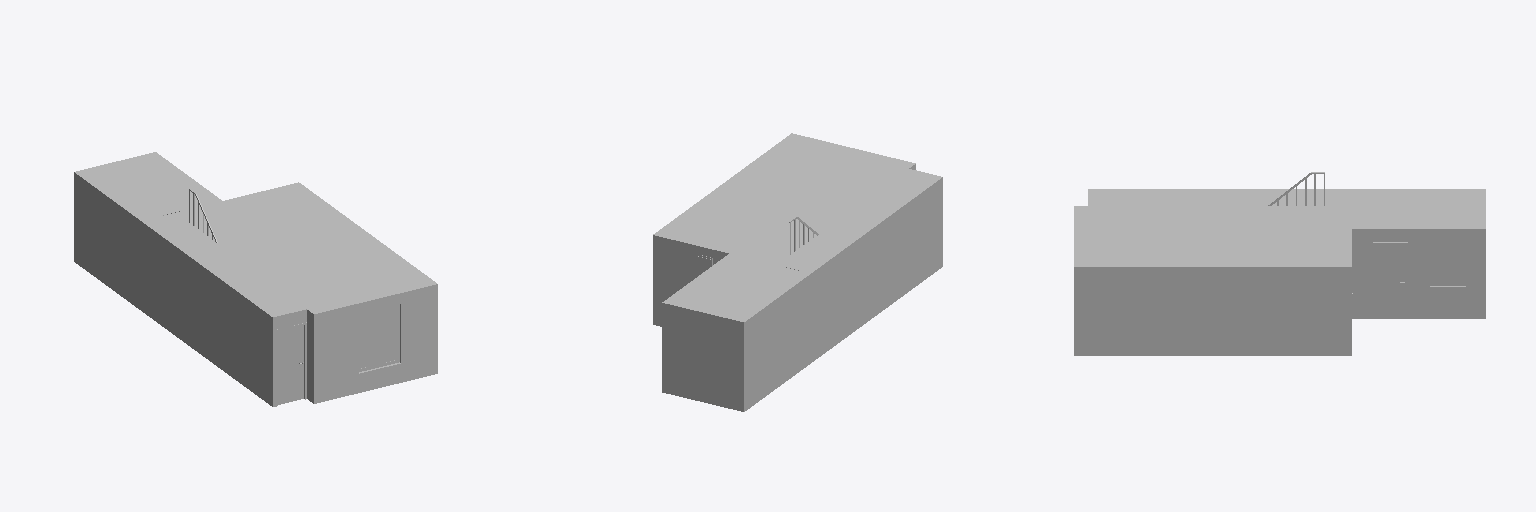
File: Groundfloor.obj
3 renders of one model, left to right at view 1: azimuth 30°, elevation 25°; view 2: azimuth 150°, elevation 25°; view 3: azimuth 270°, elevation 25°, orthographic.
Parts seen in each view (by area): view 1: wall_17_86, wall_9_47, room_5_211, room_4_209, wall_18_92, room_1_203, room_2_205, Porte_101, room_3_207, sweethome3d_window_pane_169, sweethome3d_window_pane_1_176, wall_16_80 (+2 smaller); view 2: wall_17_86, room_5_211, wall_1_2, room_4_209, wall_18_92, room_1_203, room_2_205, wall_3_14, room_3_207; view 3: wall_4_20, wall_10_53, room_5_211, wall_2_8, room_4_209, room_1_203, room_2_205, Porte_123, room_3_207, sweethome3d_window_pane_118.
Part boxes in pixels (left/top/right/bottom): wall_17_86: left=142, top=222, right=272, bottom=406; wall_9_47: left=314, top=284, right=437, bottom=403; room_5_211: left=195, top=184, right=373, bottom=264; room_4_209: left=256, top=240, right=433, bottom=311; wall_18_92: left=74, top=172, right=141, bottom=310; room_1_203: left=78, top=154, right=219, bottom=219; room_2_205: left=145, top=210, right=267, bottom=276; Porte_101: left=278, top=325, right=303, bottom=404; room_3_207: left=222, top=269, right=304, bottom=315; sweethome3d_window_pane_169: left=381, top=306, right=397, bottom=363; sweethome3d_window_pane_1_176: left=360, top=311, right=375, bottom=368; wall_16_80: left=273, top=309, right=306, bottom=406; wall_17_86: left=812, top=177, right=942, bottom=361; room_5_211: left=657, top=179, right=835, bottom=259; wall_1_2: left=662, top=303, right=743, bottom=411; room_4_209: left=734, top=135, right=910, bottom=206; wall_18_92: left=744, top=273, right=811, bottom=411; room_1_203: left=667, top=254, right=807, bottom=320; room_2_205: left=764, top=205, right=885, bottom=271; wall_3_14: left=653, top=235, right=728, bottom=326; room_3_207: left=855, top=170, right=938, bottom=215; wall_4_20: left=1196, top=267, right=1351, bottom=355; wall_10_53: left=1074, top=267, right=1195, bottom=355; room_5_211: left=1196, top=215, right=1348, bottom=264; wall_2_8: left=1352, top=229, right=1485, bottom=318; room_4_209: left=1077, top=207, right=1195, bottom=264; room_1_203: left=1352, top=191, right=1482, bottom=227; room_2_205: left=1197, top=191, right=1348, bottom=213; Porte_123: left=1375, top=244, right=1406, bottom=318; room_3_207: left=1091, top=191, right=1196, bottom=205; sweethome3d_window_pane_118: left=1432, top=239, right=1463, bottom=283.
Size of the model in its own units: 450 by 335 by 1015.